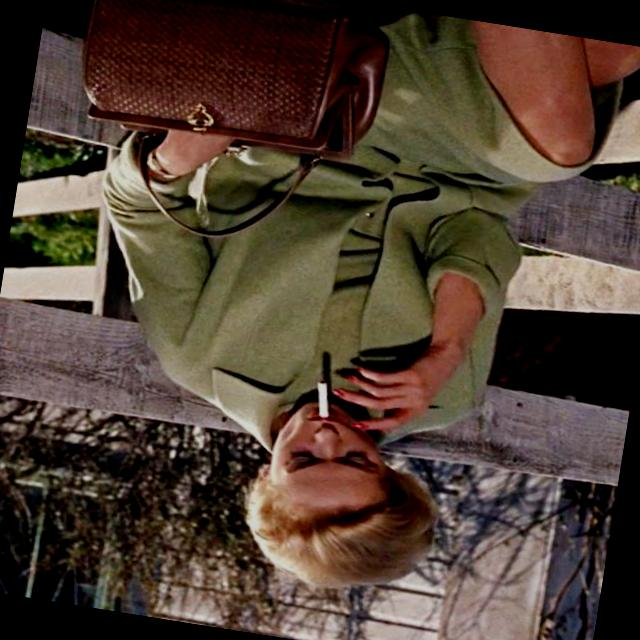smoke: (290, 365, 346, 439)
